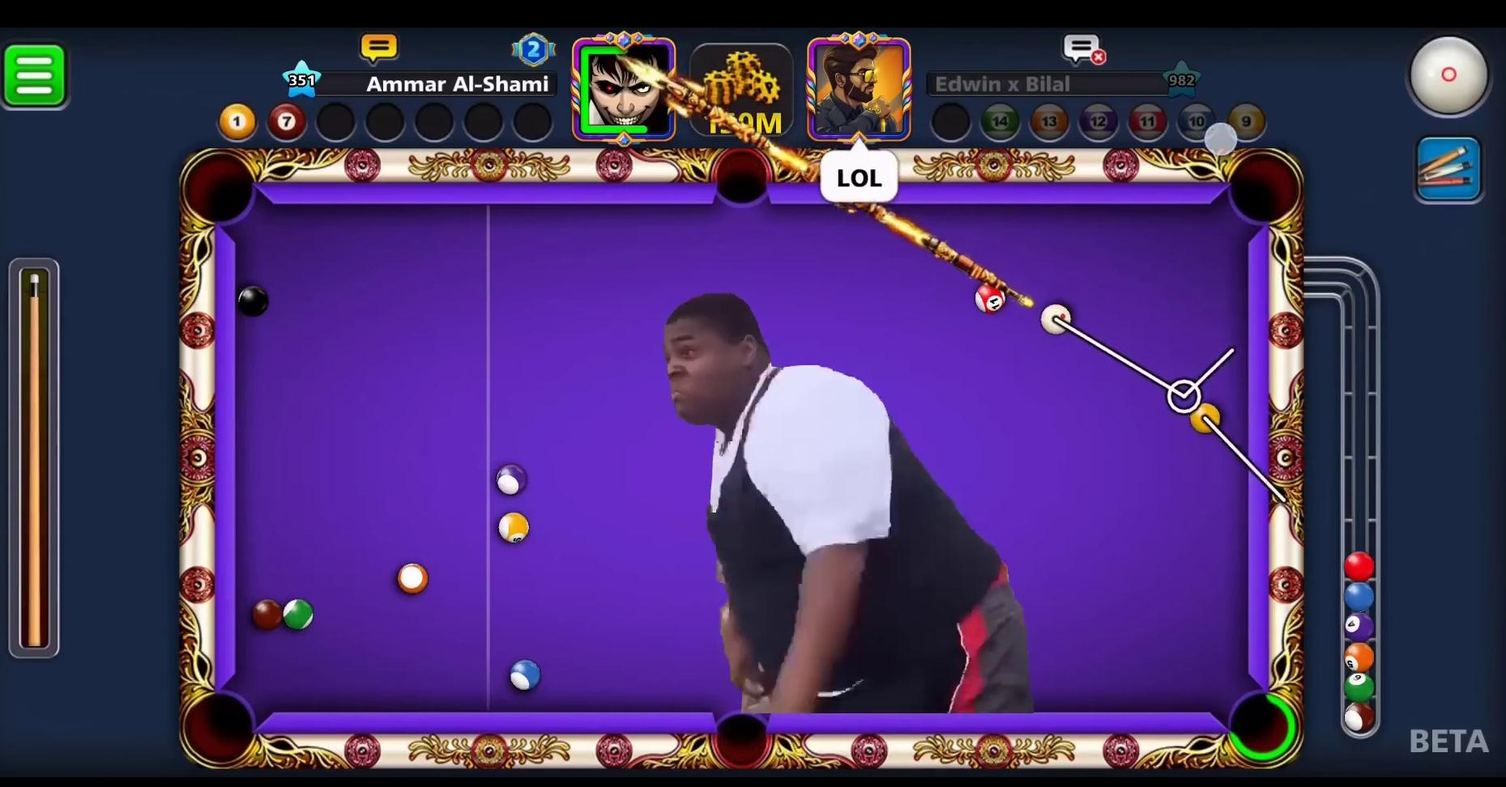Ball: (237, 202, 1253, 712), (971, 267, 1012, 330), (226, 282, 279, 323), (497, 653, 545, 698), (392, 560, 437, 602), (490, 459, 533, 499), (275, 591, 318, 631), (1184, 399, 1225, 439), (245, 596, 287, 633), (494, 511, 535, 547)
Force: (0, 259, 65, 660)
Guideline: (1042, 305, 1294, 513)
Hole: (169, 679, 271, 775), (1212, 677, 1306, 775), (175, 140, 266, 234), (1220, 140, 1305, 234), (698, 139, 779, 222), (698, 698, 785, 774)
Spin: (1402, 27, 1504, 129)
White: (1034, 298, 1076, 339)
